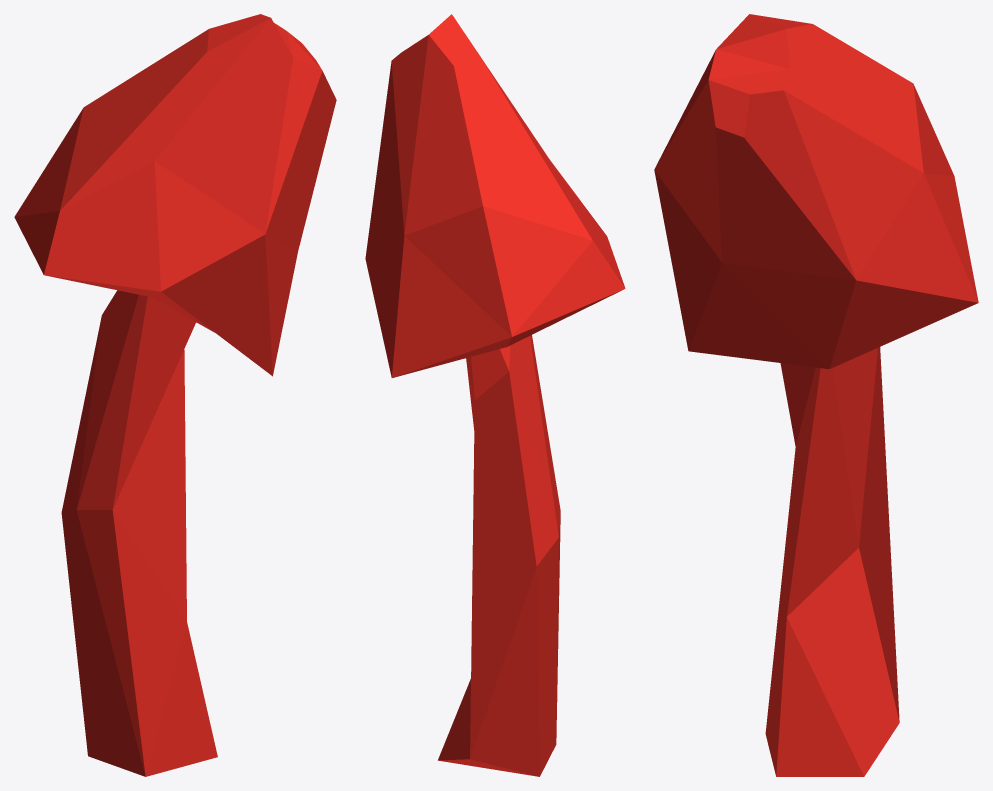
Rendered from mushroom_03.FBX.
The picture shows the model from 3 angles, left to right: view 1: azimuth 30°, elevation 25°; view 2: azimuth 150°, elevation 25°; view 3: azimuth 270°, elevation 25°; orthographic projection. The views are drawn at different scales.
Parts seen in each view (by area): view 1: mushroom_003; view 2: mushroom_003; view 3: mushroom_003.
Part boxes in pixels (<box>): mushroom_003: <box>14,14,336,776</box>; mushroom_003: <box>365,14,625,776</box>; mushroom_003: <box>654,14,978,776</box>.
Bounding box in the file's own units: 13.34 × 35.83 × 13.44.
